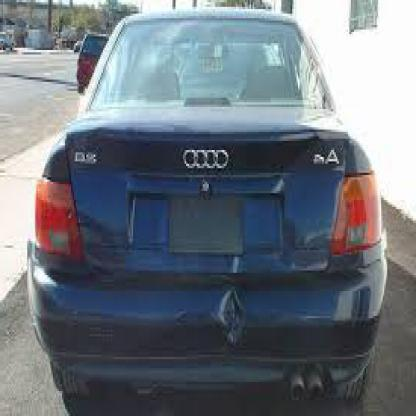dent: (212, 281, 249, 349)
